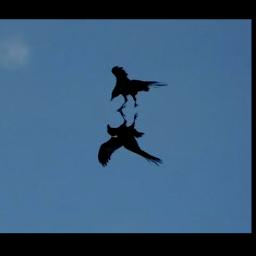Crow: (97, 108, 166, 168)
